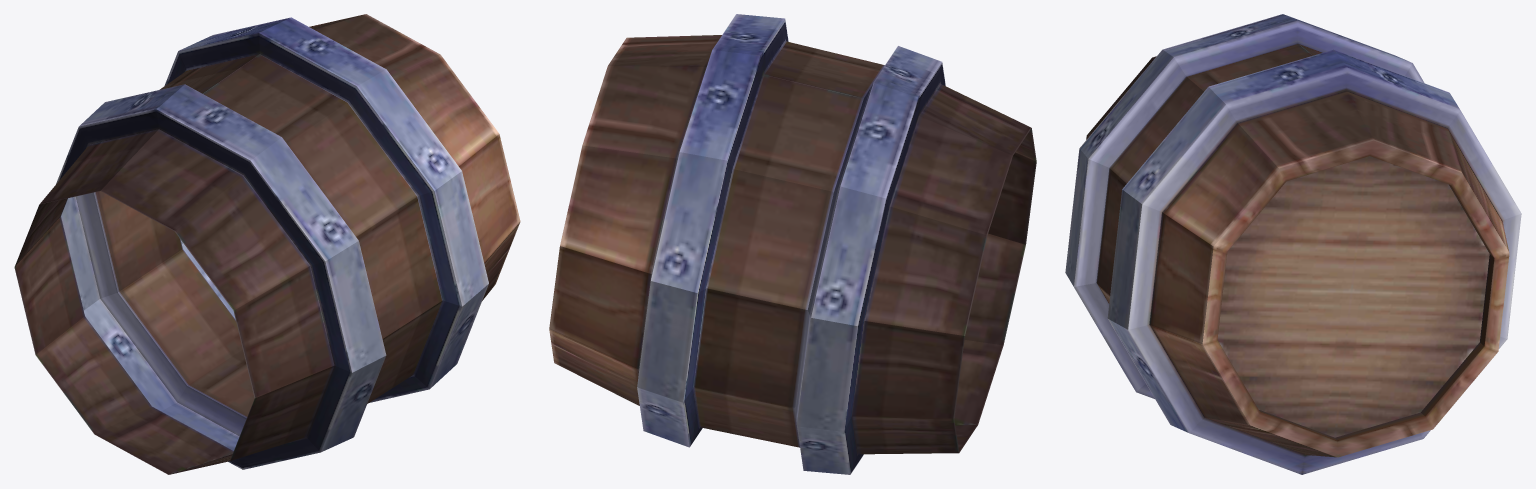
File: shatan_mutong.fbx
3 views of the same model, side by side, from view 1: azimuth 30°, elevation 25°; view 2: azimuth 150°, elevation 25°; view 3: azimuth 270°, elevation 25° (orthographic). The views are drawn at different scales.
Visible parts, largest first — view 1: shatan_mutong; view 2: shatan_mutong; view 3: shatan_mutong.
Part boxes in pixels (left/top/right/bottom): shatan_mutong: left=14, top=14, right=520, bottom=474; shatan_mutong: left=549, top=14, right=1036, bottom=474; shatan_mutong: left=1065, top=14, right=1521, bottom=474.
Bounding box in the file's own units: 1.28 × 1.14 × 1.18.
